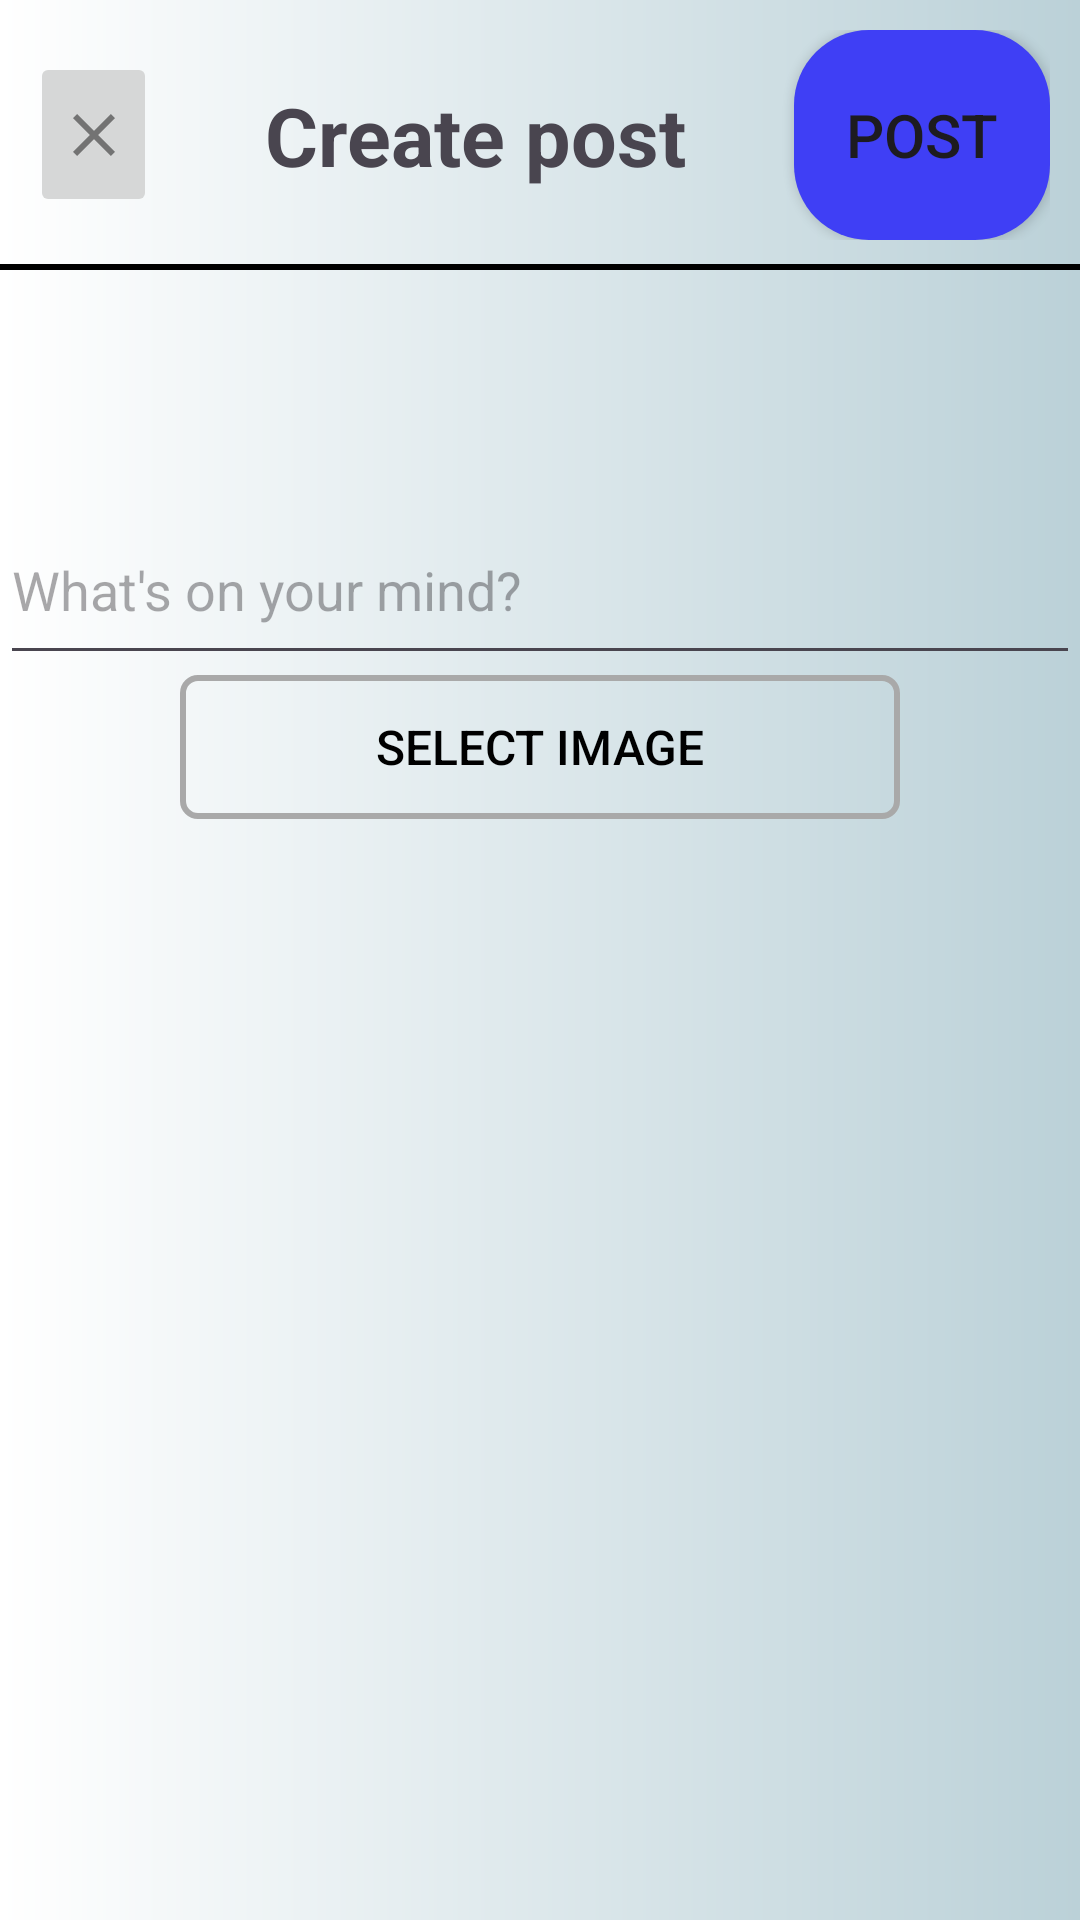

Icons on this 1080px×1920px Android screen, each with its box as (x1, y1, x2, y2):
close: (42, 70, 145, 199)
